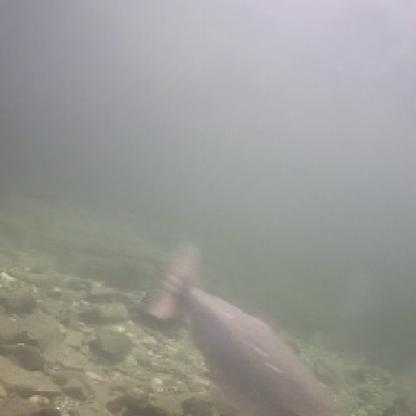salmon: (134, 229, 360, 414)
